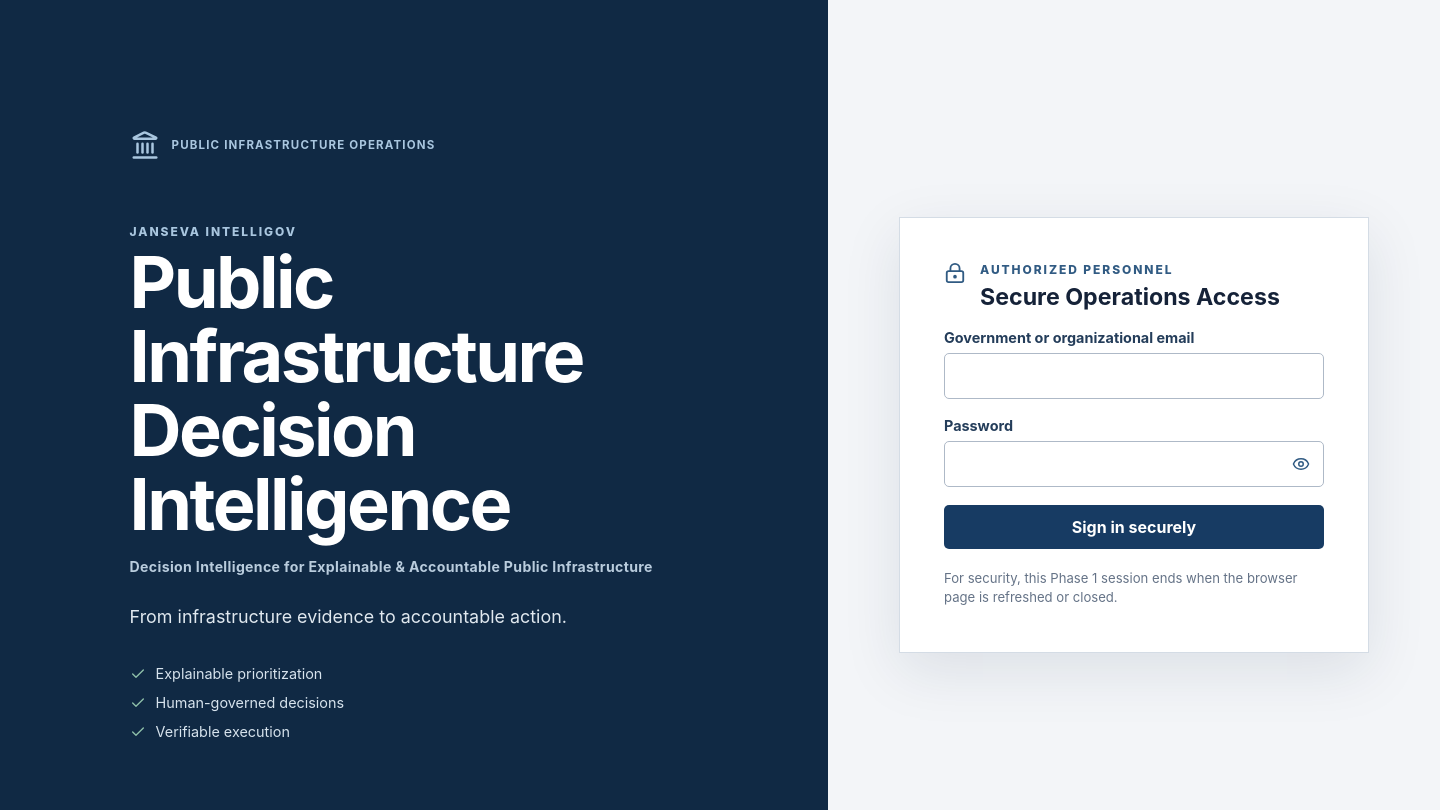
Test: Login page › shows and hides the password accessibly
This screenshot has width=1440, height=810.
Type "secret" into the password field labelled "Password". click: coordinates (1134, 464)
box: [944,441,1324,487]
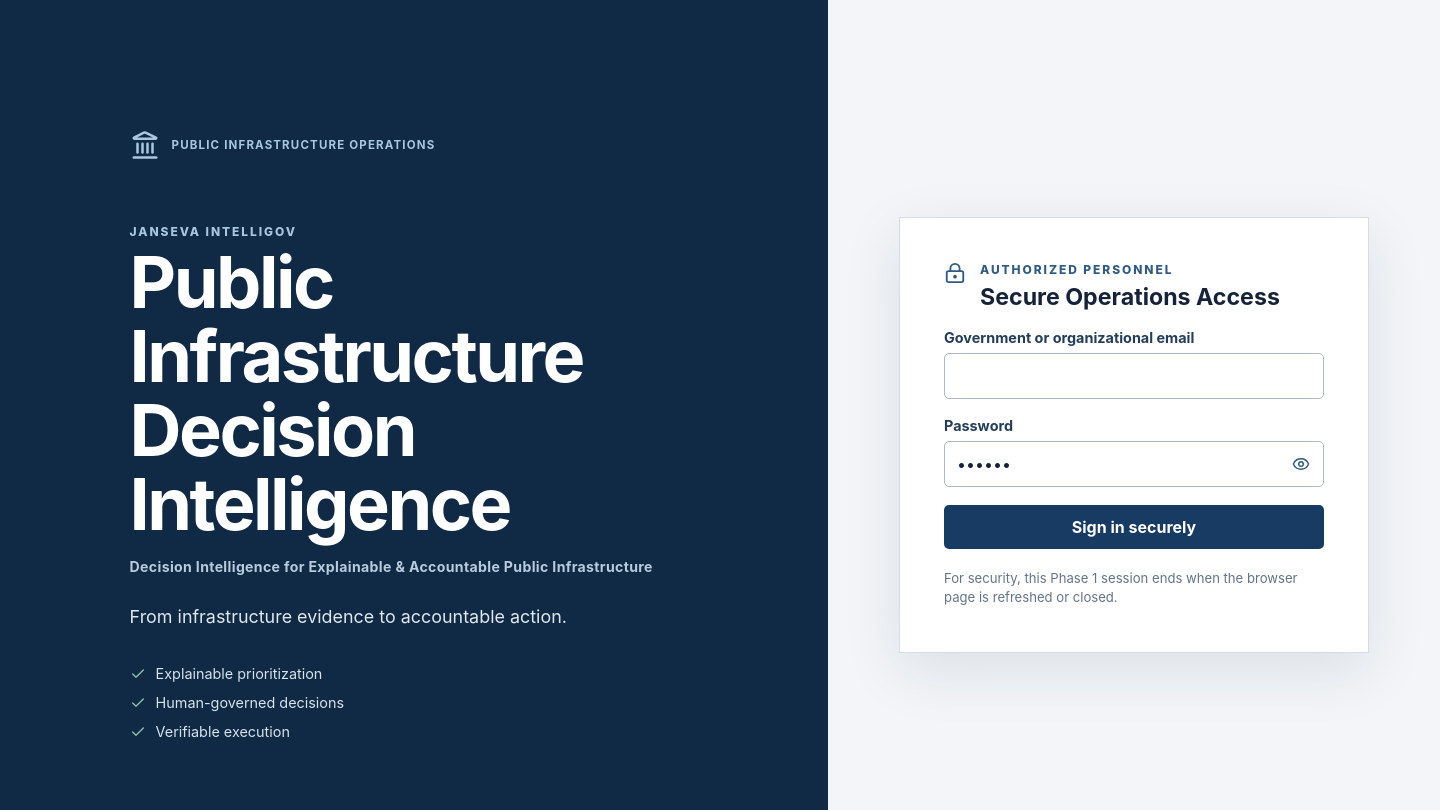
Click the button named "Show password". click: coordinates (1301, 464)
box: [1283,446,1319,482]
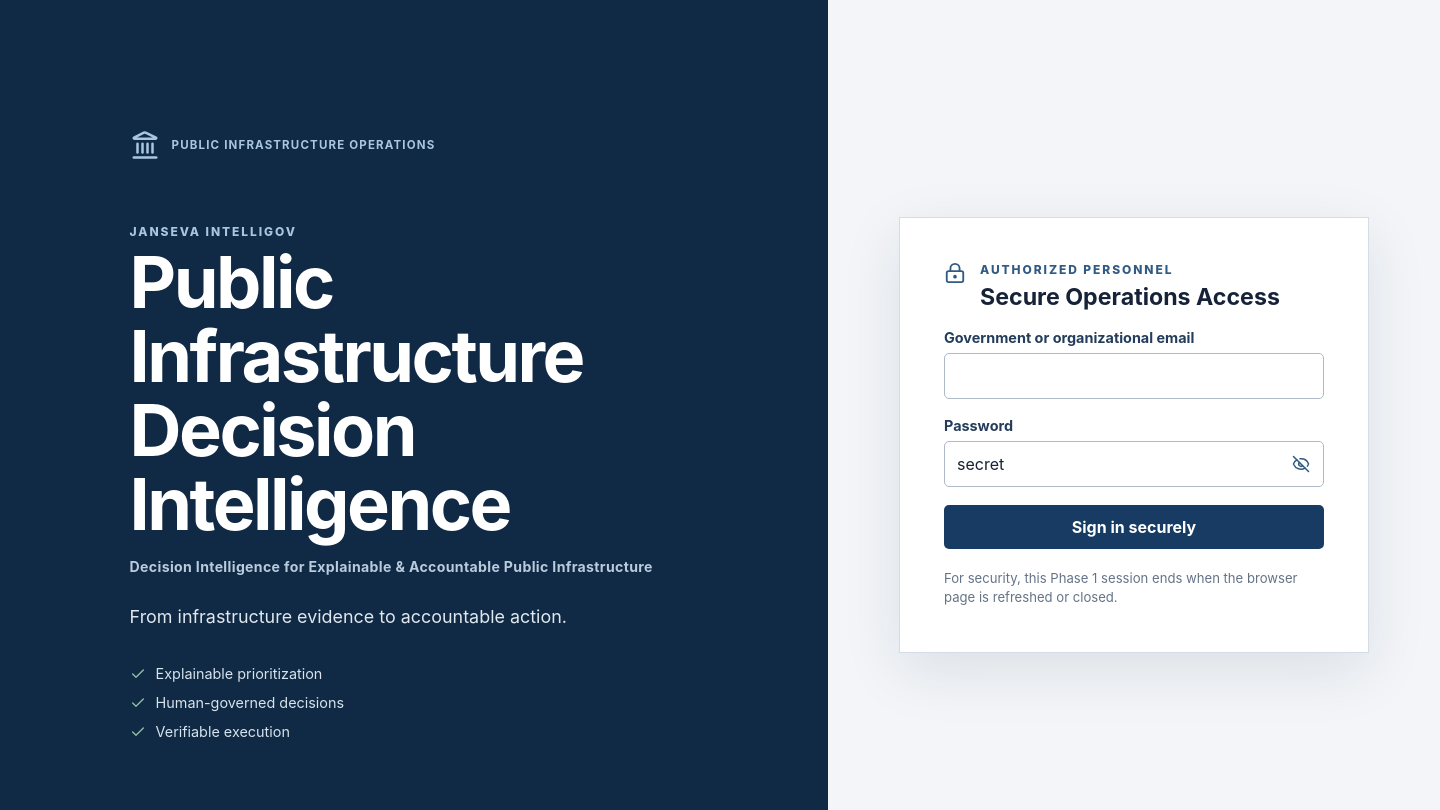
Expected: the field labelled "Password" shows its text, [944,441,1324,487]
Click the button named "Hide password". click: coordinates (1301, 464)
box: [1283,446,1319,482]
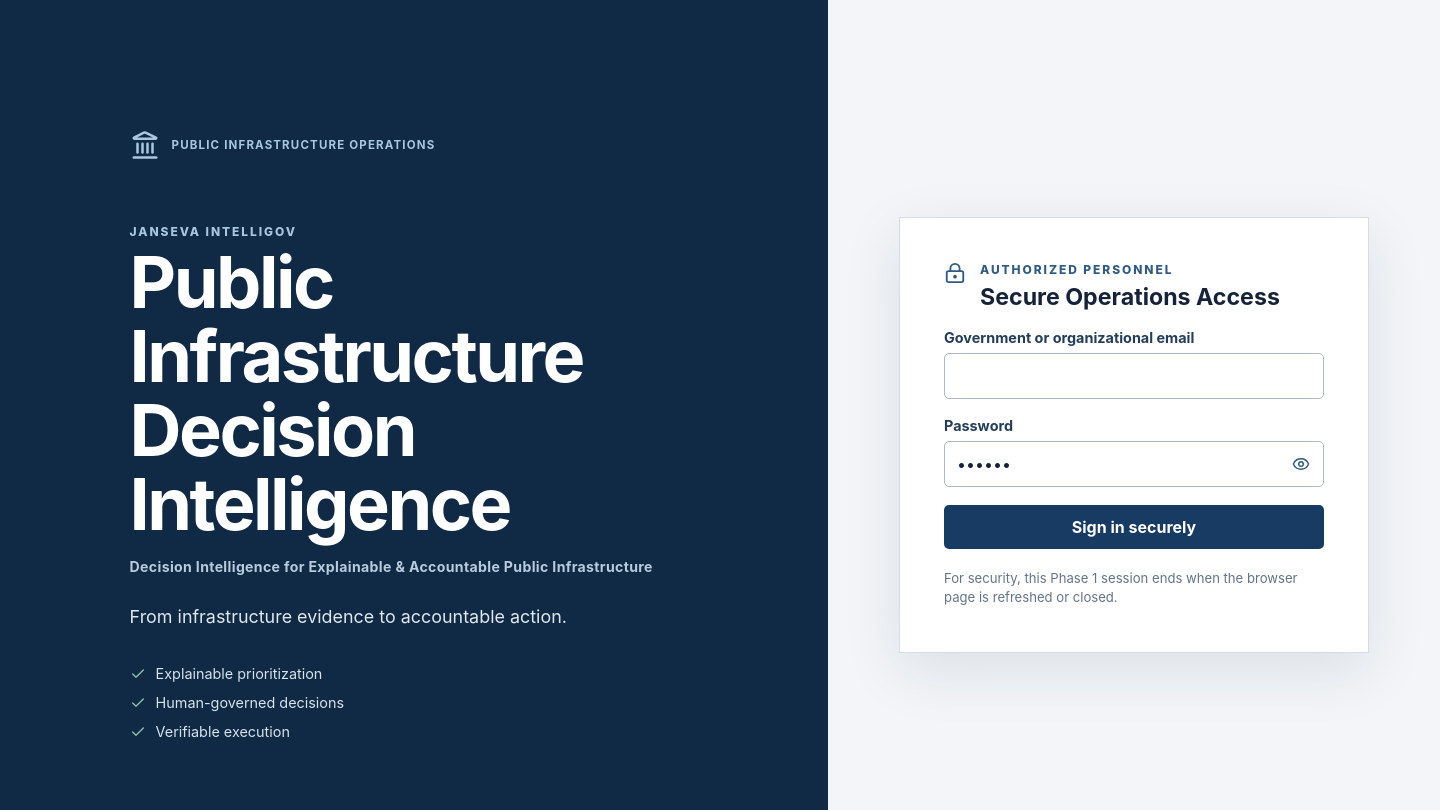
Expected: the password field labelled "Password" hides its text, [944,441,1324,487]
